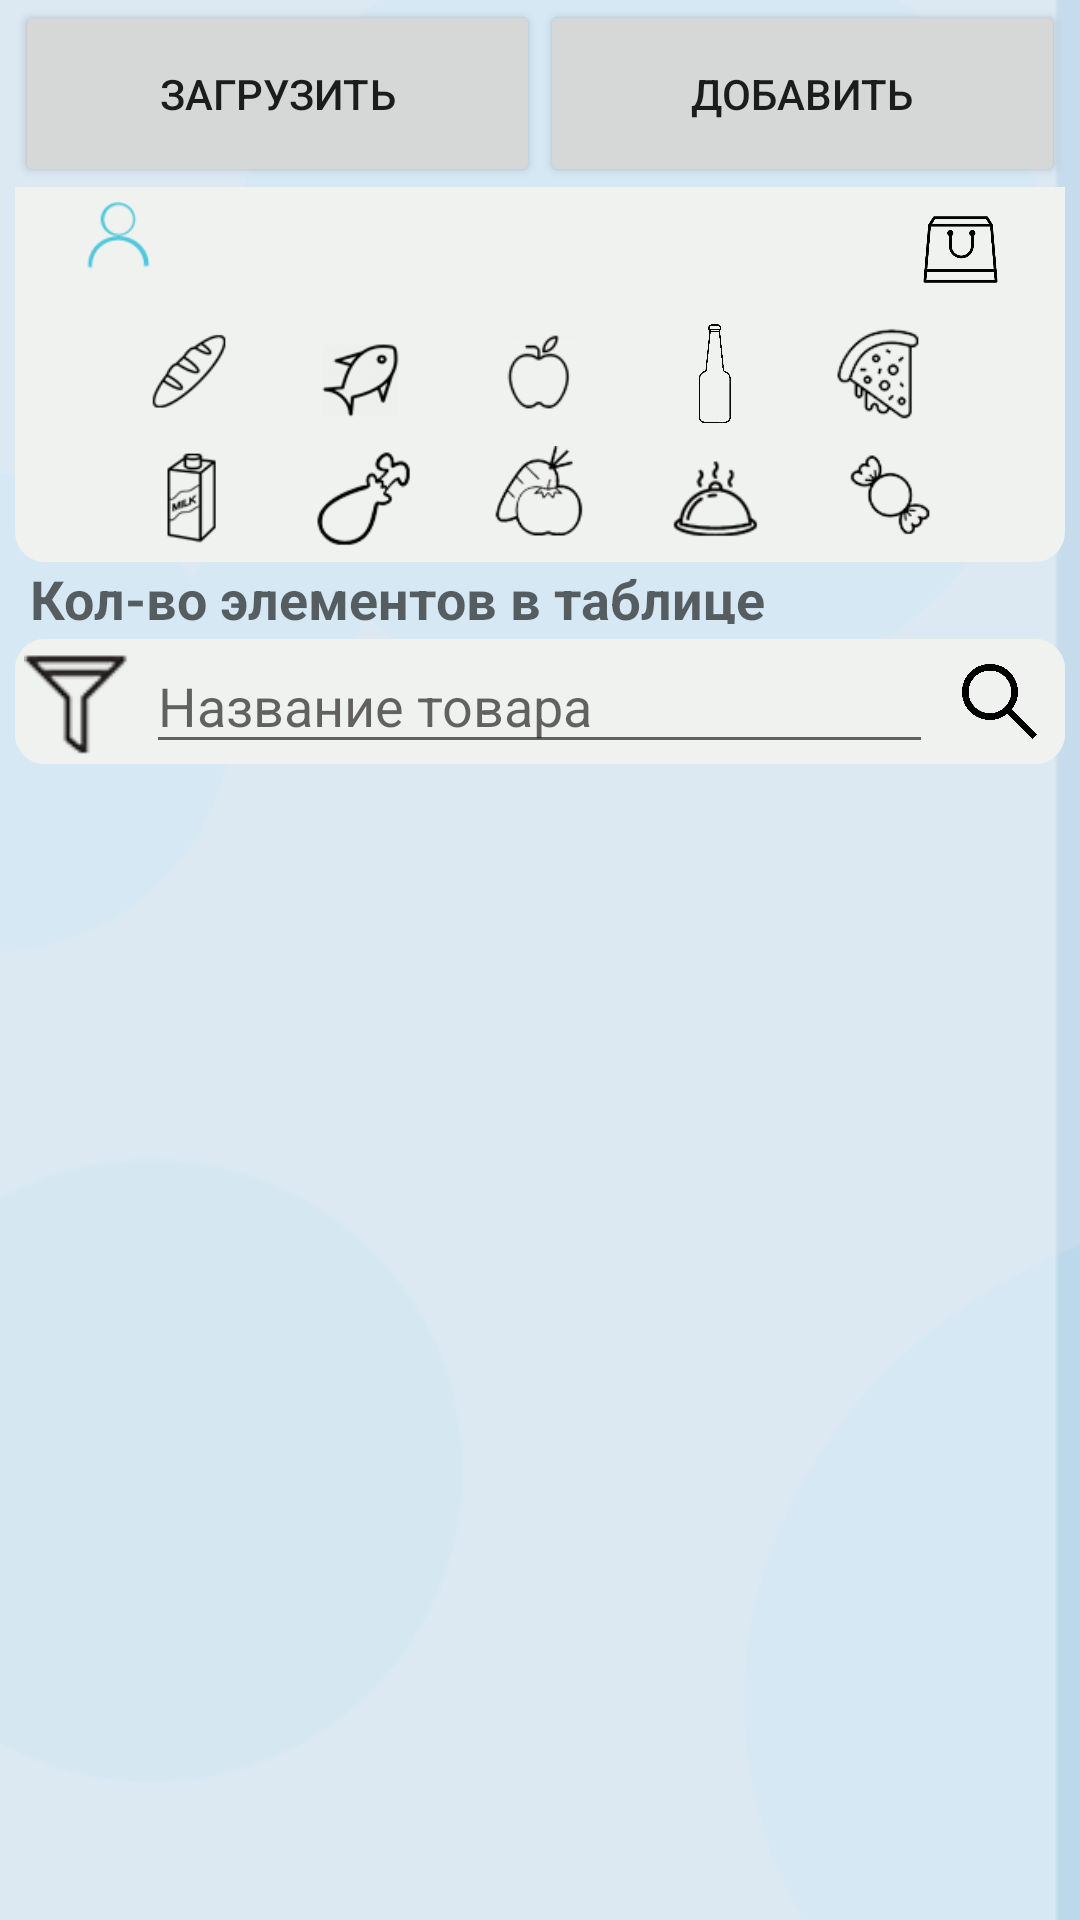

Locate icon controls on the screen. Image size 1080x1920, boxes as (x1, y1, x2, y2).
bottle: (699, 324, 731, 423)
bread: (152, 335, 226, 408)
candy: (850, 455, 930, 534)
cart: (923, 216, 998, 283)
filter: (15, 639, 146, 764)
fish: (322, 344, 399, 416)
food: (673, 461, 758, 536)
fruit: (507, 335, 569, 409)
junkfood: (837, 329, 919, 419)
meat: (317, 452, 410, 545)
milkproduct: (167, 453, 216, 543)
search: (933, 639, 1065, 764)
user: (87, 202, 150, 268)
vegetables: (495, 446, 583, 536)
